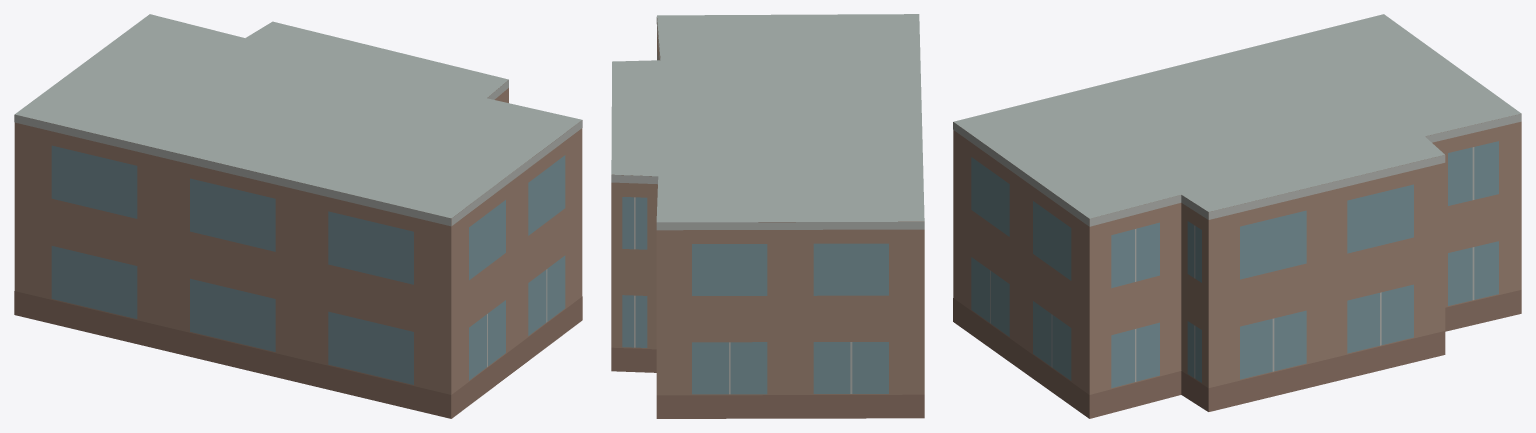
Rendered from survey-upis-32653174.glb.
3 views of the same model, side by side, from view 1: azimuth 30°, elevation 25°; view 2: azimuth 150°, elevation 25°; view 3: azimuth 270°, elevation 25° (orthographic). The views are drawn at different scales.
Visible parts, largest first — view 1: survey-upis-32653174.tmp; view 2: survey-upis-32653174.tmp; view 3: survey-upis-32653174.tmp.
Part boxes in pixels (left/top/right/bottom): survey-upis-32653174.tmp: left=14, top=14, right=582, bottom=418; survey-upis-32653174.tmp: left=611, top=14, right=924, bottom=418; survey-upis-32653174.tmp: left=953, top=14, right=1521, bottom=418.
Size of the model in its own units: 13.4 by 6.1 by 15.72.
